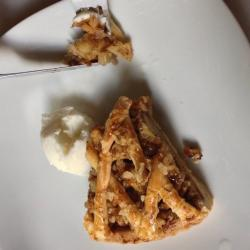apple_pie: (81, 95, 219, 247)
icecream: (35, 104, 104, 185)
